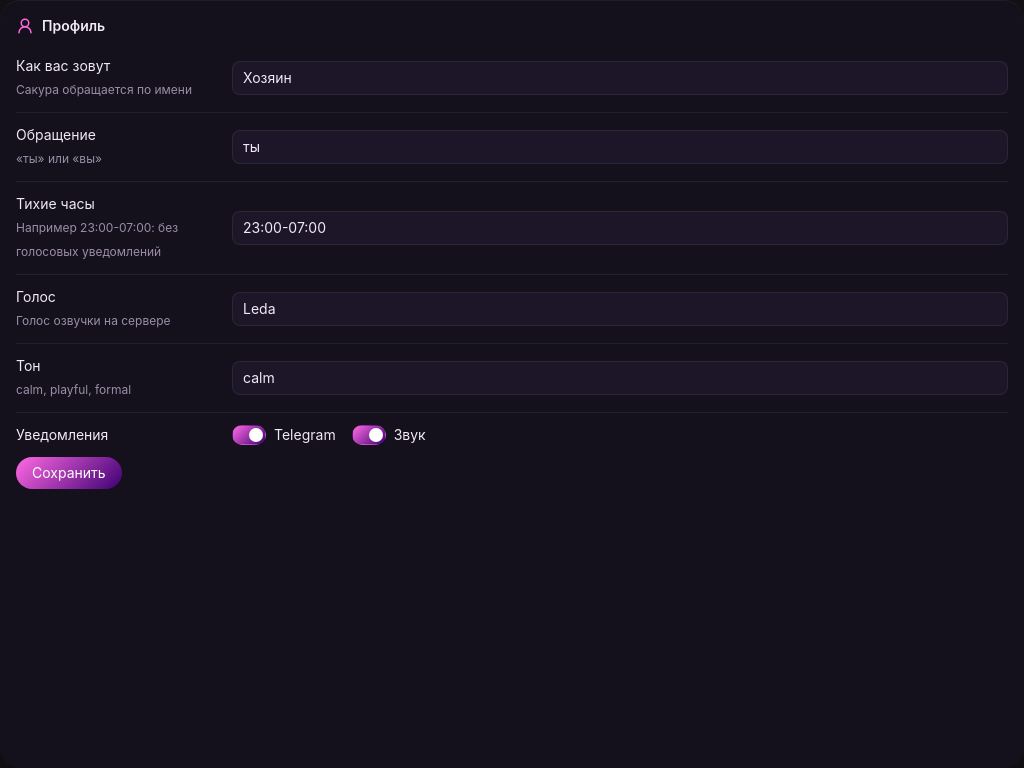
Профиль: правка и сохранение
This screenshot has width=1024, height=768.
Expected: the field labelled "Как вас зовут" holds "Хозяин", 232,61 -> 1008,95
Replace the text in the field labelled "Тихие часы" with "22:00-08:00": (620, 228) 232,211 -> 1008,245
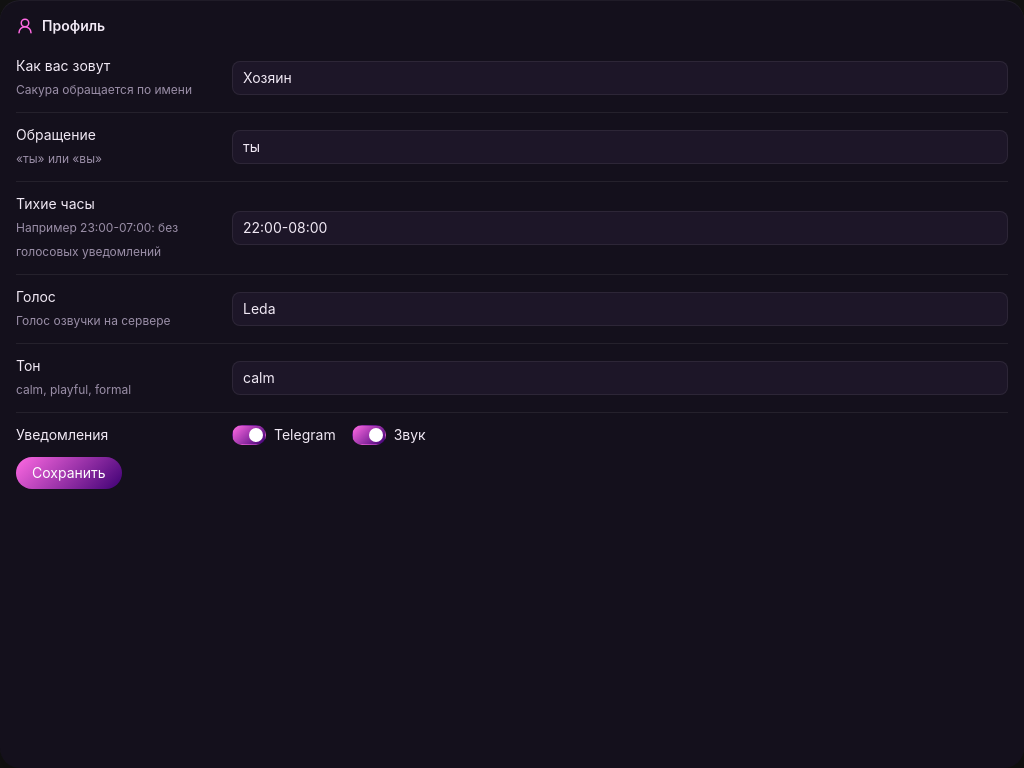
Click the button "Сохранить": (69, 473) 16,457 -> 122,489
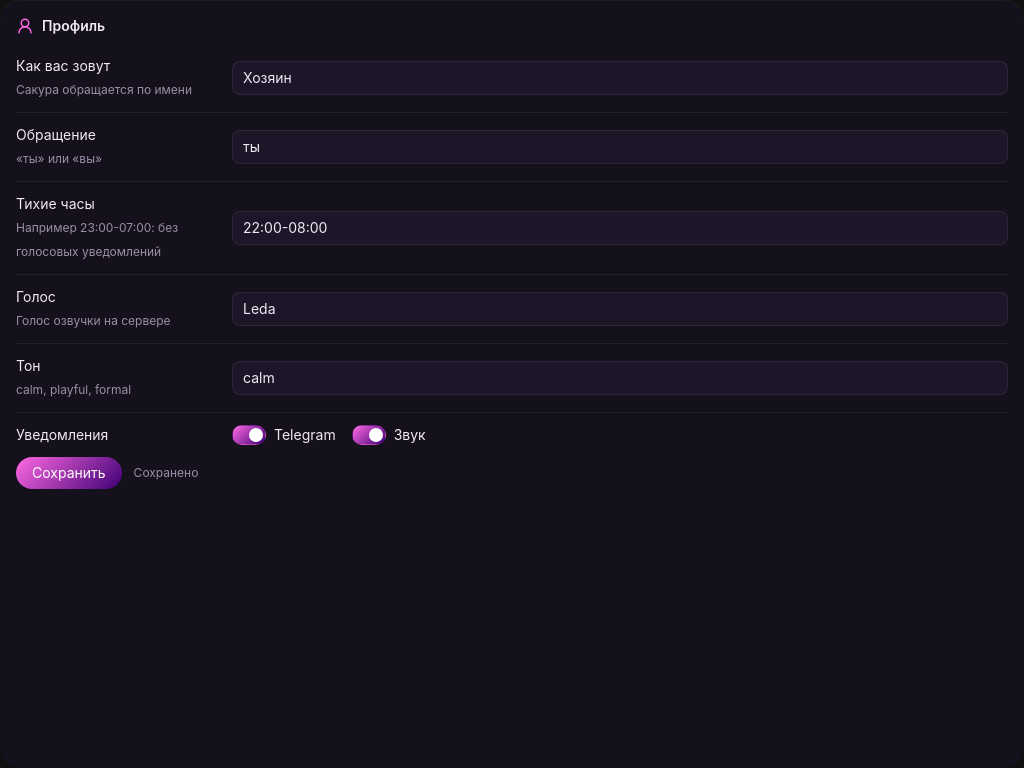
Now the message reads "Сохранено", box 134,465 -> 198,480
